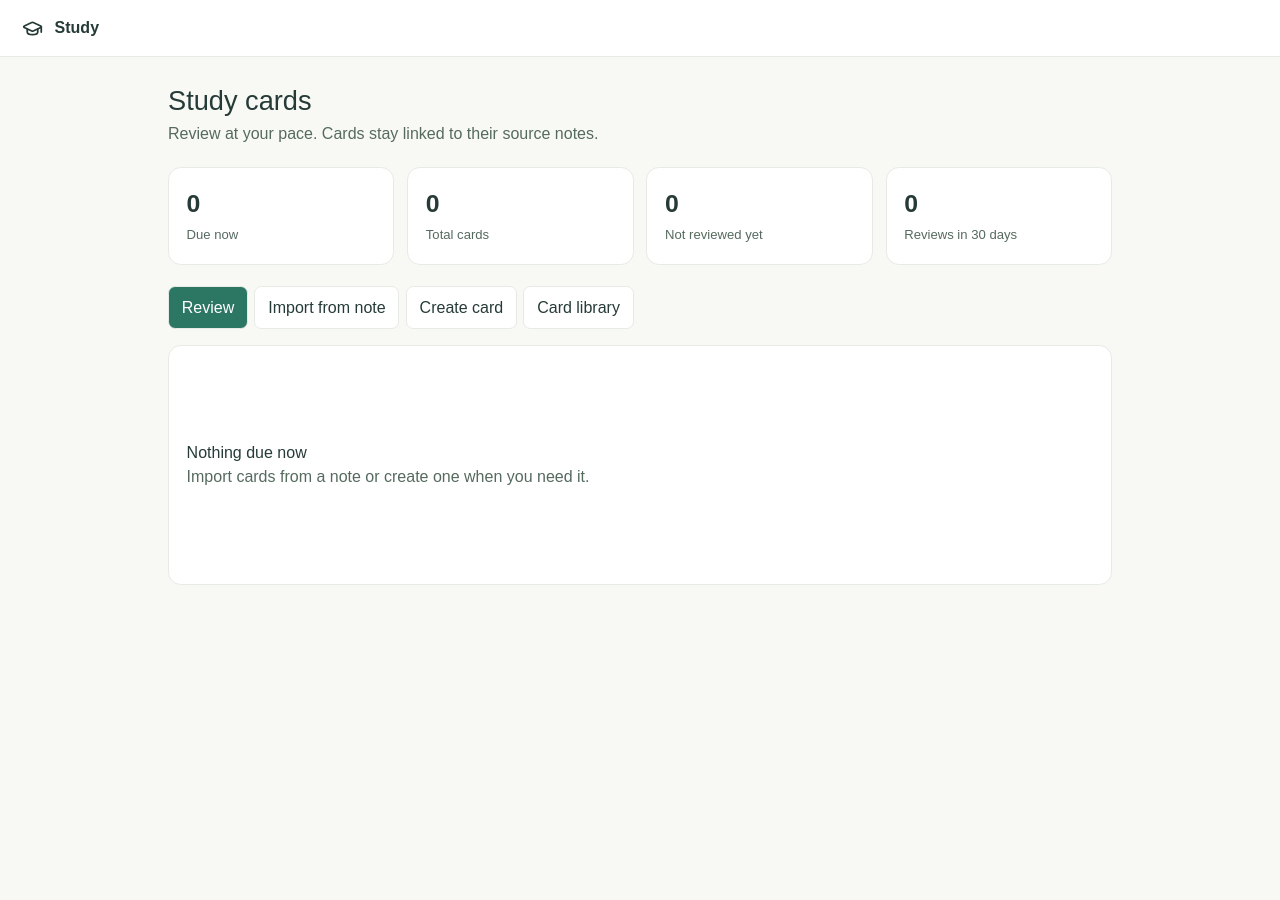
Test case: Study view › previews note cards, imports them, reveals answers, and records a review
The width and height of the screenshot is (1280, 900).
Click the button "Import from note" at (327, 308), box x1=254 y1=286 x2=400 y2=329
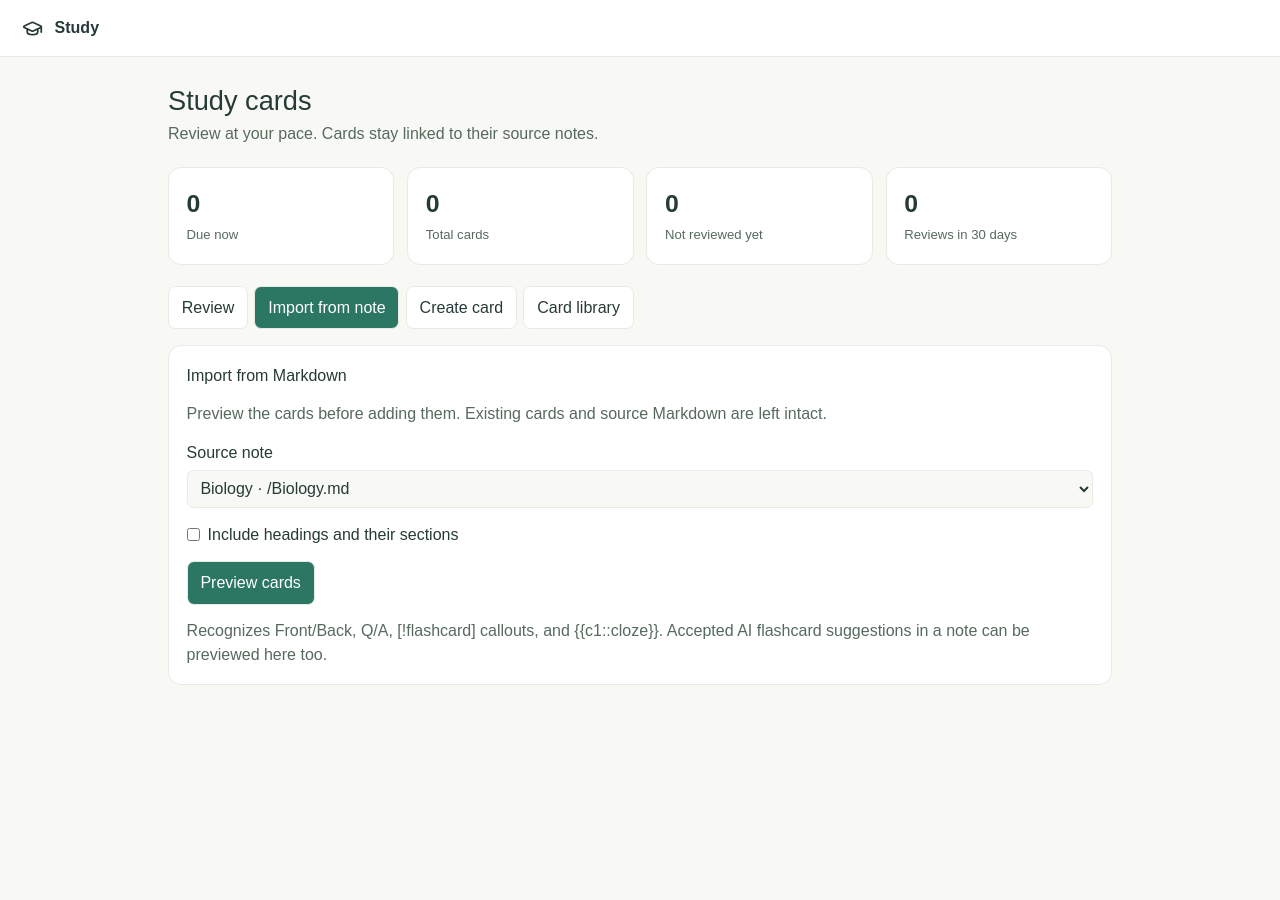
Click the button "Preview cards" at (251, 583), box x1=187 y1=561 x2=315 y2=604
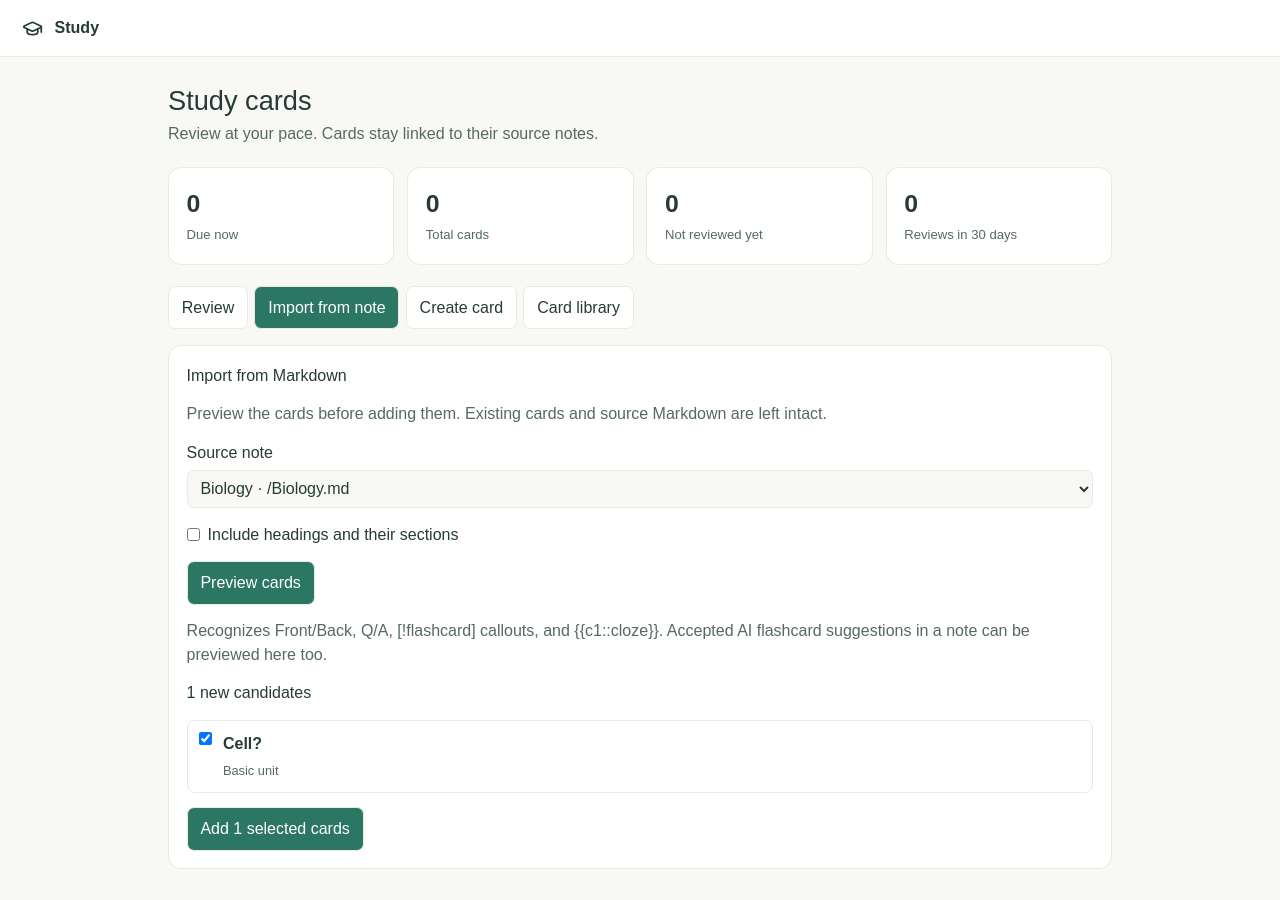
Now the heading "1 new candidates" is shown, box x1=187 y1=684 x2=311 y2=701
Click the button "Add 1 selected cards" at (275, 829), box x1=187 y1=807 x2=364 y2=851
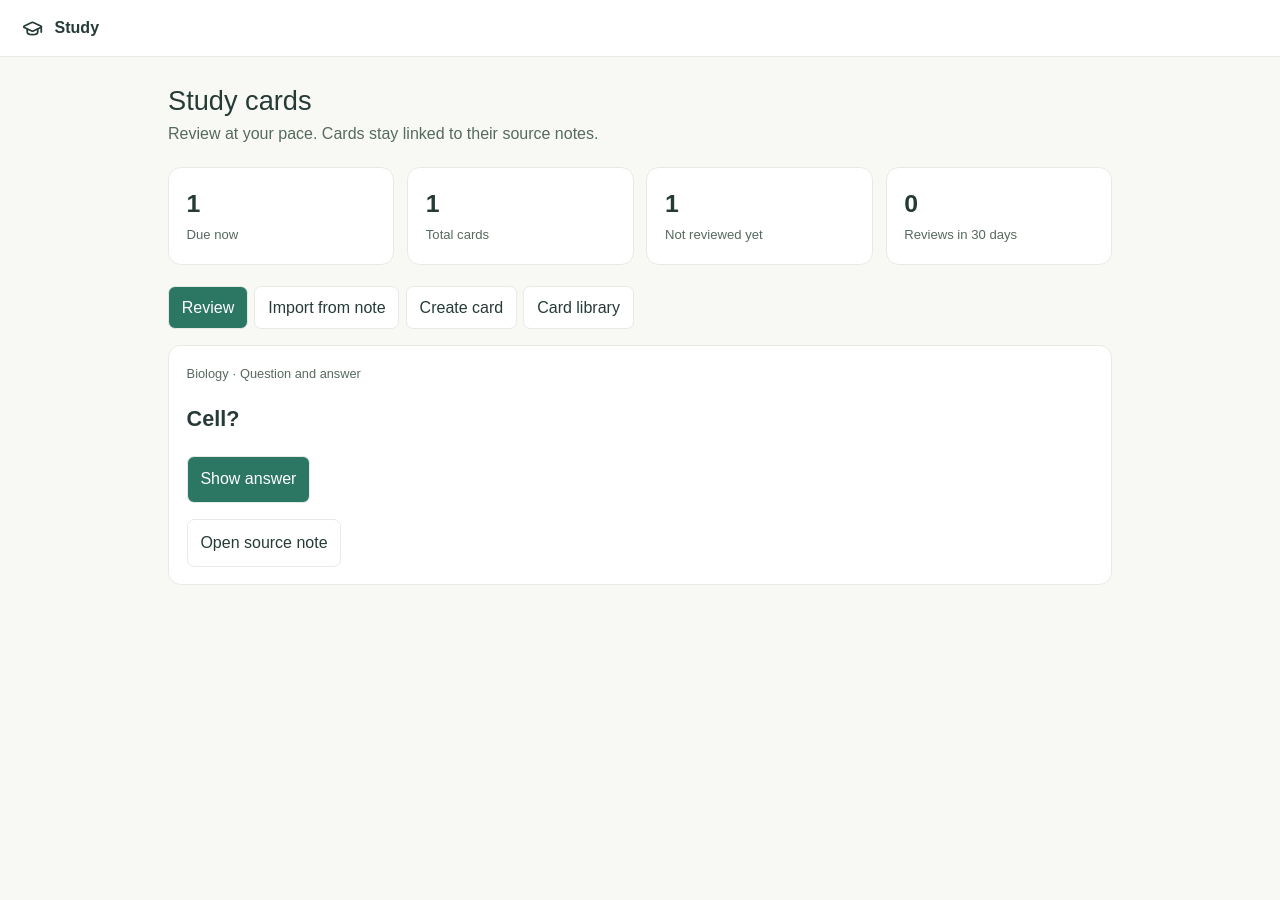
Click the button "Show answer" at (248, 479), box x1=187 y1=456 x2=310 y2=503
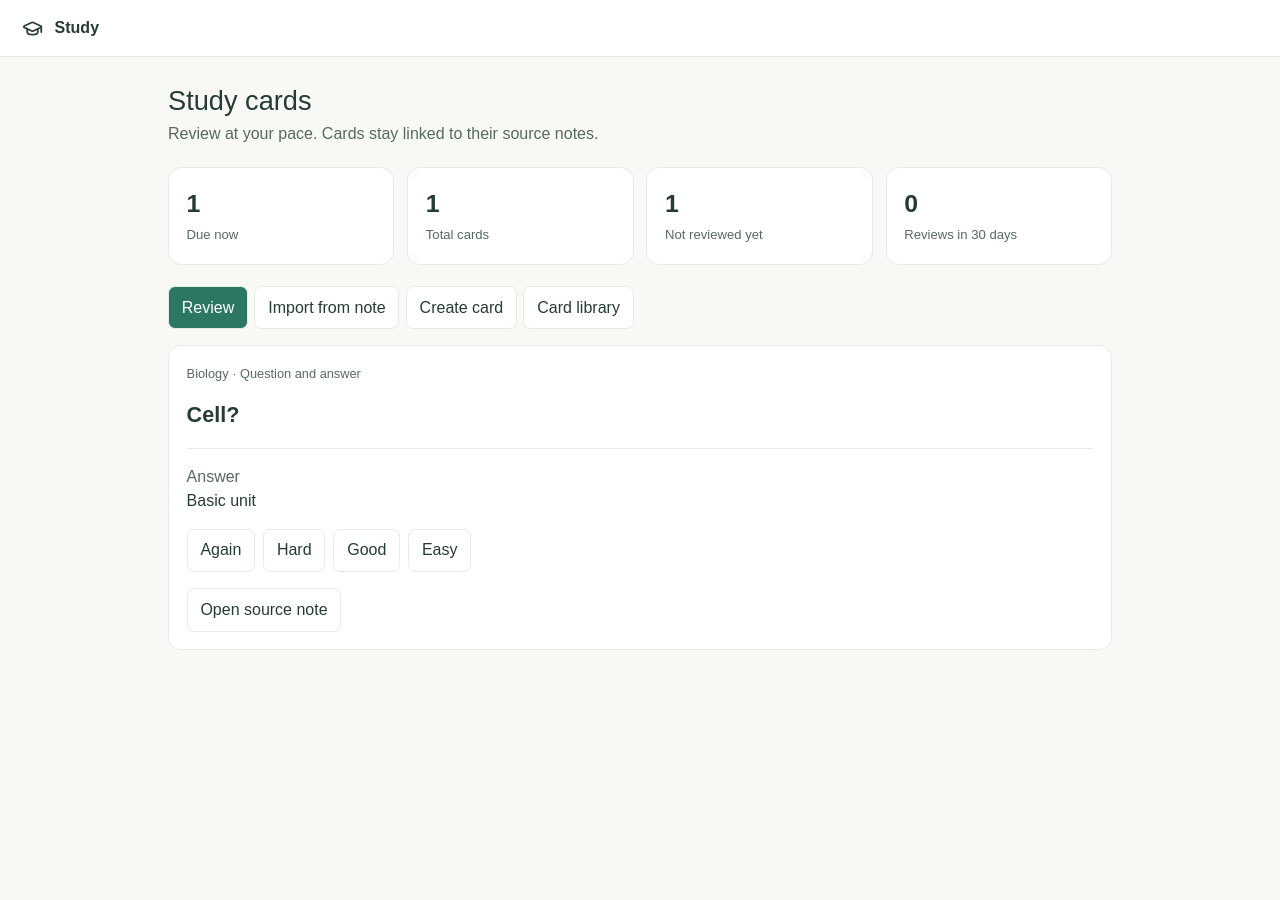
Now the text "Basic unit" is shown, box x1=187 y1=492 x2=256 y2=508
Click the button "Good" at (367, 550), box x1=333 y1=528 x2=400 y2=572
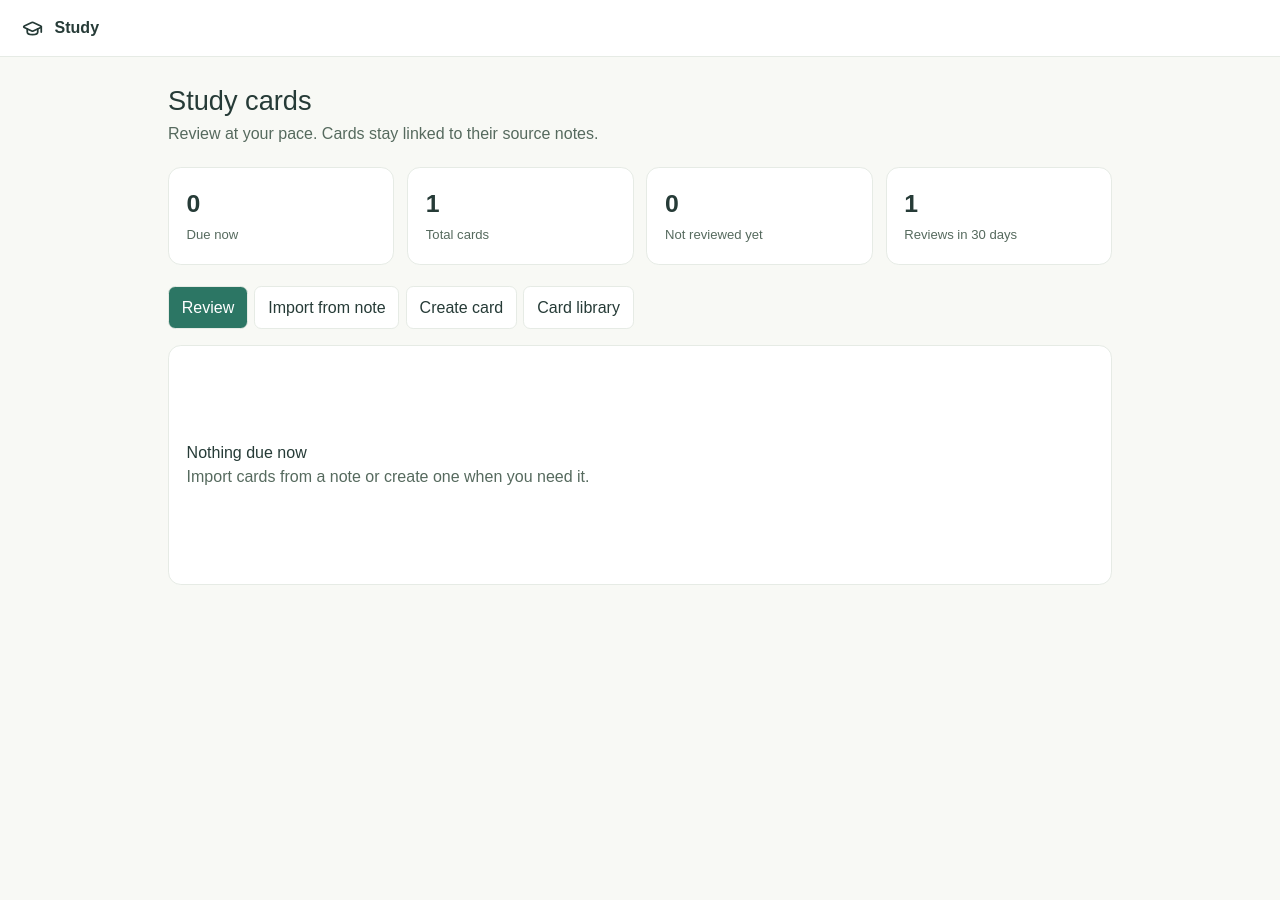
Now the heading "Nothing due now" is shown, box x1=187 y1=444 x2=307 y2=461
